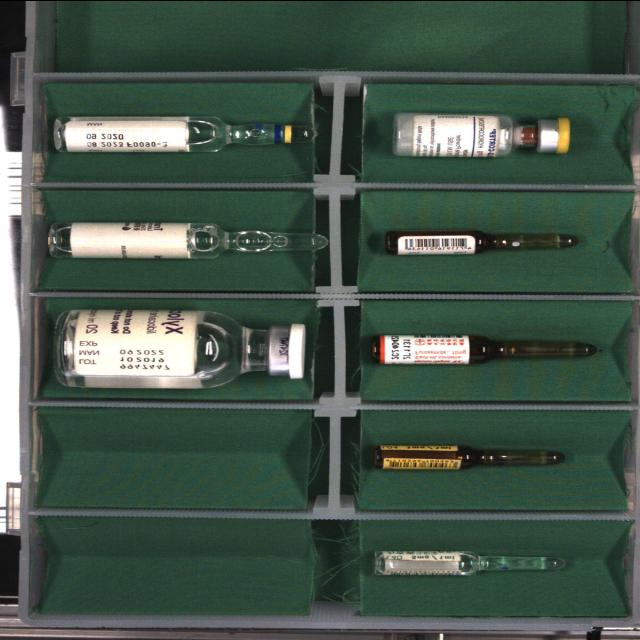Vials: (54, 309, 306, 388), (393, 112, 570, 156)
